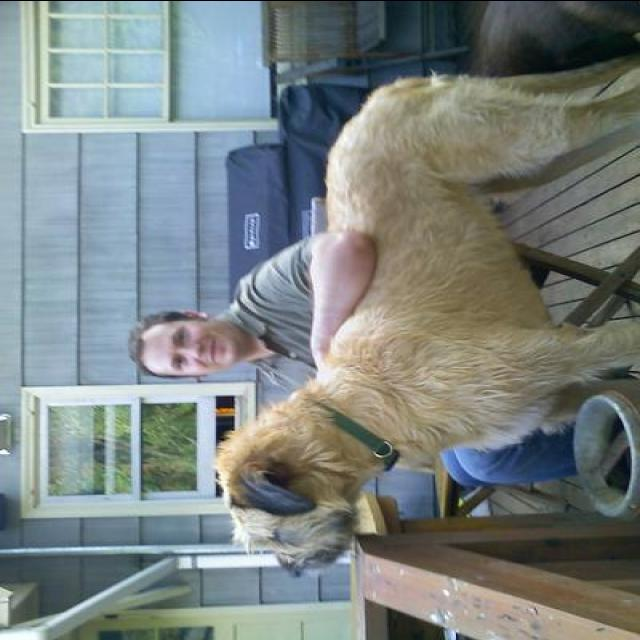irish_wolfhound: (210, 55, 638, 581)
